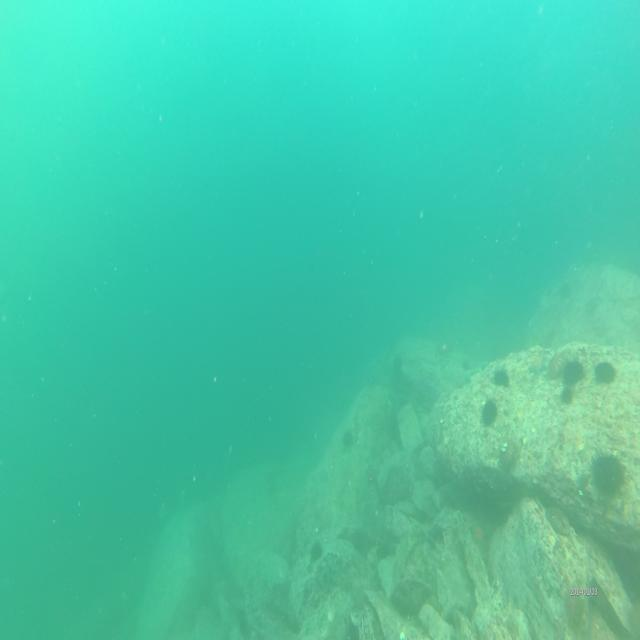echinus: (590, 445, 625, 503), (593, 360, 617, 388), (563, 358, 585, 386), (489, 364, 513, 388), (482, 396, 499, 429)
